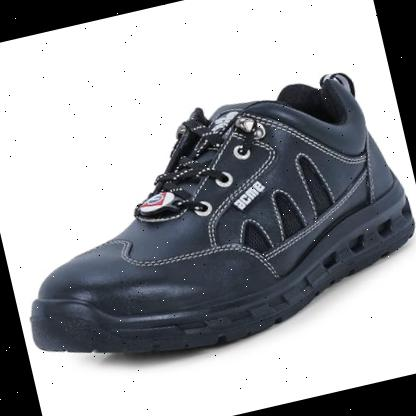bota: (0, 55, 416, 391)
